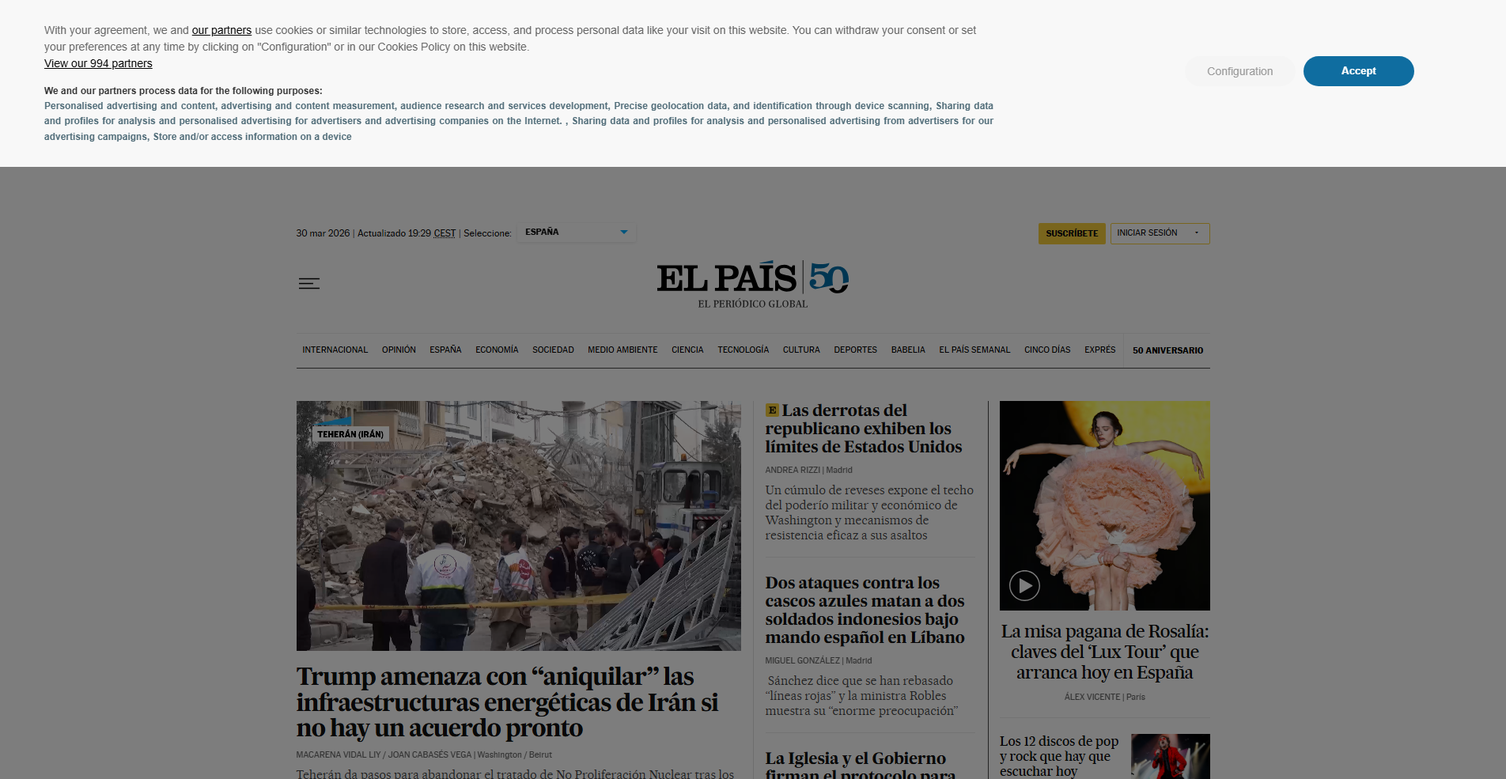button: (1145, 40, 1462, 125), (32, 424, 233, 447), (1273, 109, 1474, 130), (1273, 325, 1474, 346), (1185, 56, 1296, 87), (1304, 56, 1414, 87), (1110, 223, 1210, 244), (44, 51, 152, 64), (1039, 223, 1105, 244), (296, 271, 322, 297), (208, 89, 233, 115), (1470, 9, 1497, 32), (228, 9, 255, 32), (211, 506, 233, 525), (211, 525, 233, 544), (211, 544, 233, 563), (211, 696, 233, 715), (114, 54, 146, 65), (1273, 54, 1274, 55)
input: (32, 89, 208, 115)
label: (32, 89, 32, 90)
link: (296, 661, 718, 742), (765, 572, 965, 647), (1001, 620, 1208, 683), (765, 399, 962, 456), (657, 260, 849, 308), (765, 748, 963, 779), (1000, 733, 1119, 779), (32, 165, 233, 186), (32, 186, 233, 207), (32, 305, 233, 326), (32, 326, 233, 347), (43, 235, 221, 256), (43, 256, 221, 277), (43, 215, 221, 235), (43, 277, 221, 297), (1123, 334, 1210, 368), (933, 334, 1017, 368), (582, 334, 664, 368), (296, 334, 374, 368), (711, 334, 775, 368), (32, 601, 144, 620), (1018, 334, 1077, 368), (32, 734, 137, 753), (525, 223, 628, 242), (469, 334, 525, 368), (828, 334, 884, 368), (1273, 266, 1373, 285), (526, 334, 580, 368), (777, 334, 827, 368), (885, 334, 932, 368), (1273, 228, 1356, 247), (376, 334, 422, 368), (1273, 247, 1354, 266), (423, 334, 468, 368), (665, 334, 710, 368), (1078, 334, 1122, 368), (1273, 190, 1344, 209), (32, 487, 102, 506), (1273, 171, 1332, 190), (32, 658, 87, 677), (32, 582, 82, 601), (32, 715, 82, 734), (1273, 209, 1320, 228), (32, 544, 78, 563), (32, 696, 78, 715), (296, 750, 381, 760), (388, 750, 472, 760), (32, 563, 76, 582), (192, 6, 252, 19), (32, 677, 72, 696), (765, 656, 840, 666), (32, 506, 68, 525), (32, 525, 66, 544), (32, 620, 66, 639), (1064, 692, 1120, 702), (32, 639, 61, 658), (765, 465, 820, 475), (0, 0, 1, 1)
